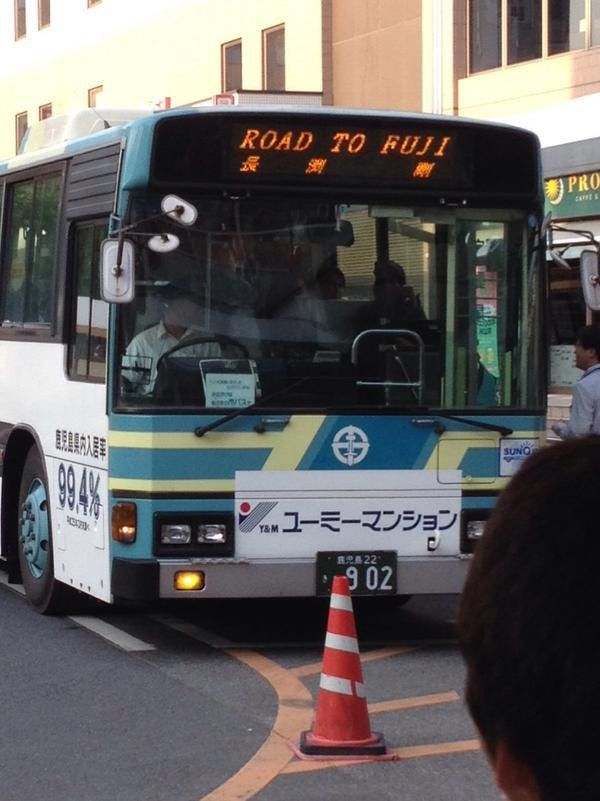destination: (225, 120, 463, 187)
